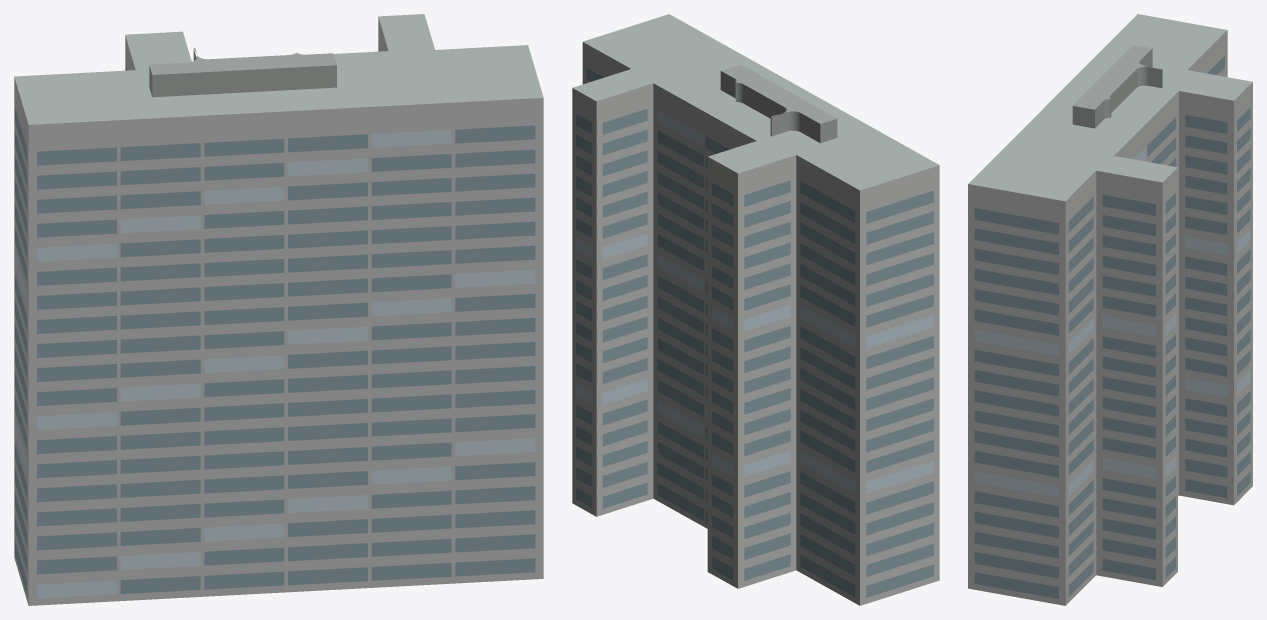
Rendered from fallback-jamsil-els-165.glb.
3 views of the same model, side by side, from view 1: azimuth 30°, elevation 25°; view 2: azimuth 150°, elevation 25°; view 3: azimuth 270°, elevation 25° (orthographic). The views are drawn at different scales.
Visible parts, largest first — view 1: fallback-jamsil-els-165; view 2: fallback-jamsil-els-165; view 3: fallback-jamsil-els-165.
Boxes of the visible parts, x1=… form: fallback-jamsil-els-165: x1=14, y1=14, x2=543, y2=605; fallback-jamsil-els-165: x1=572, y1=14, x2=939, y2=605; fallback-jamsil-els-165: x1=968, y1=14, x2=1252, y2=605.
Bounding box in the file's own units: 51.25 × 54 × 32.93.
